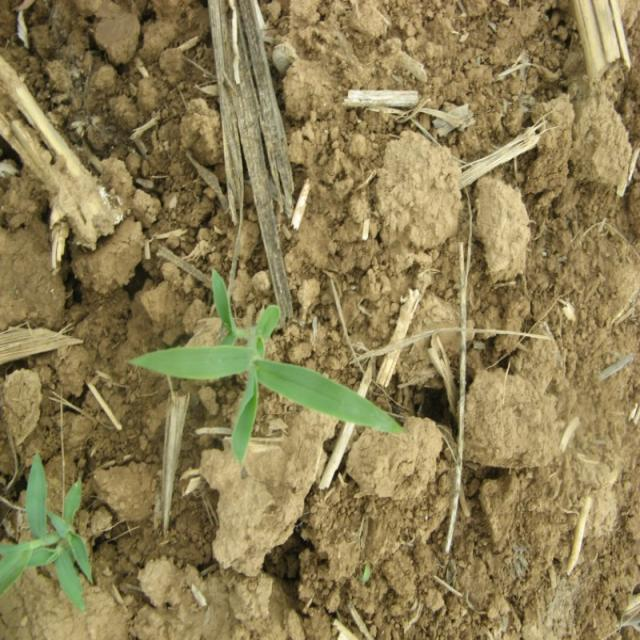bg: (134, 268, 409, 458)
